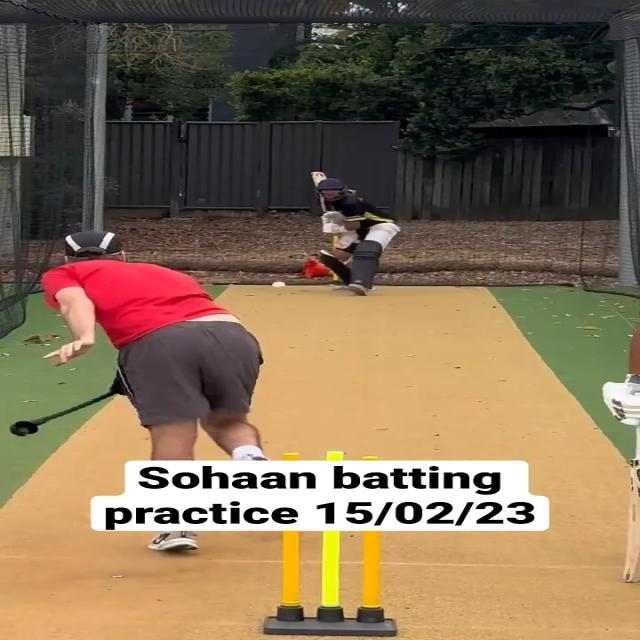ball: (270, 281, 287, 289)
stump: (268, 531, 396, 636)
